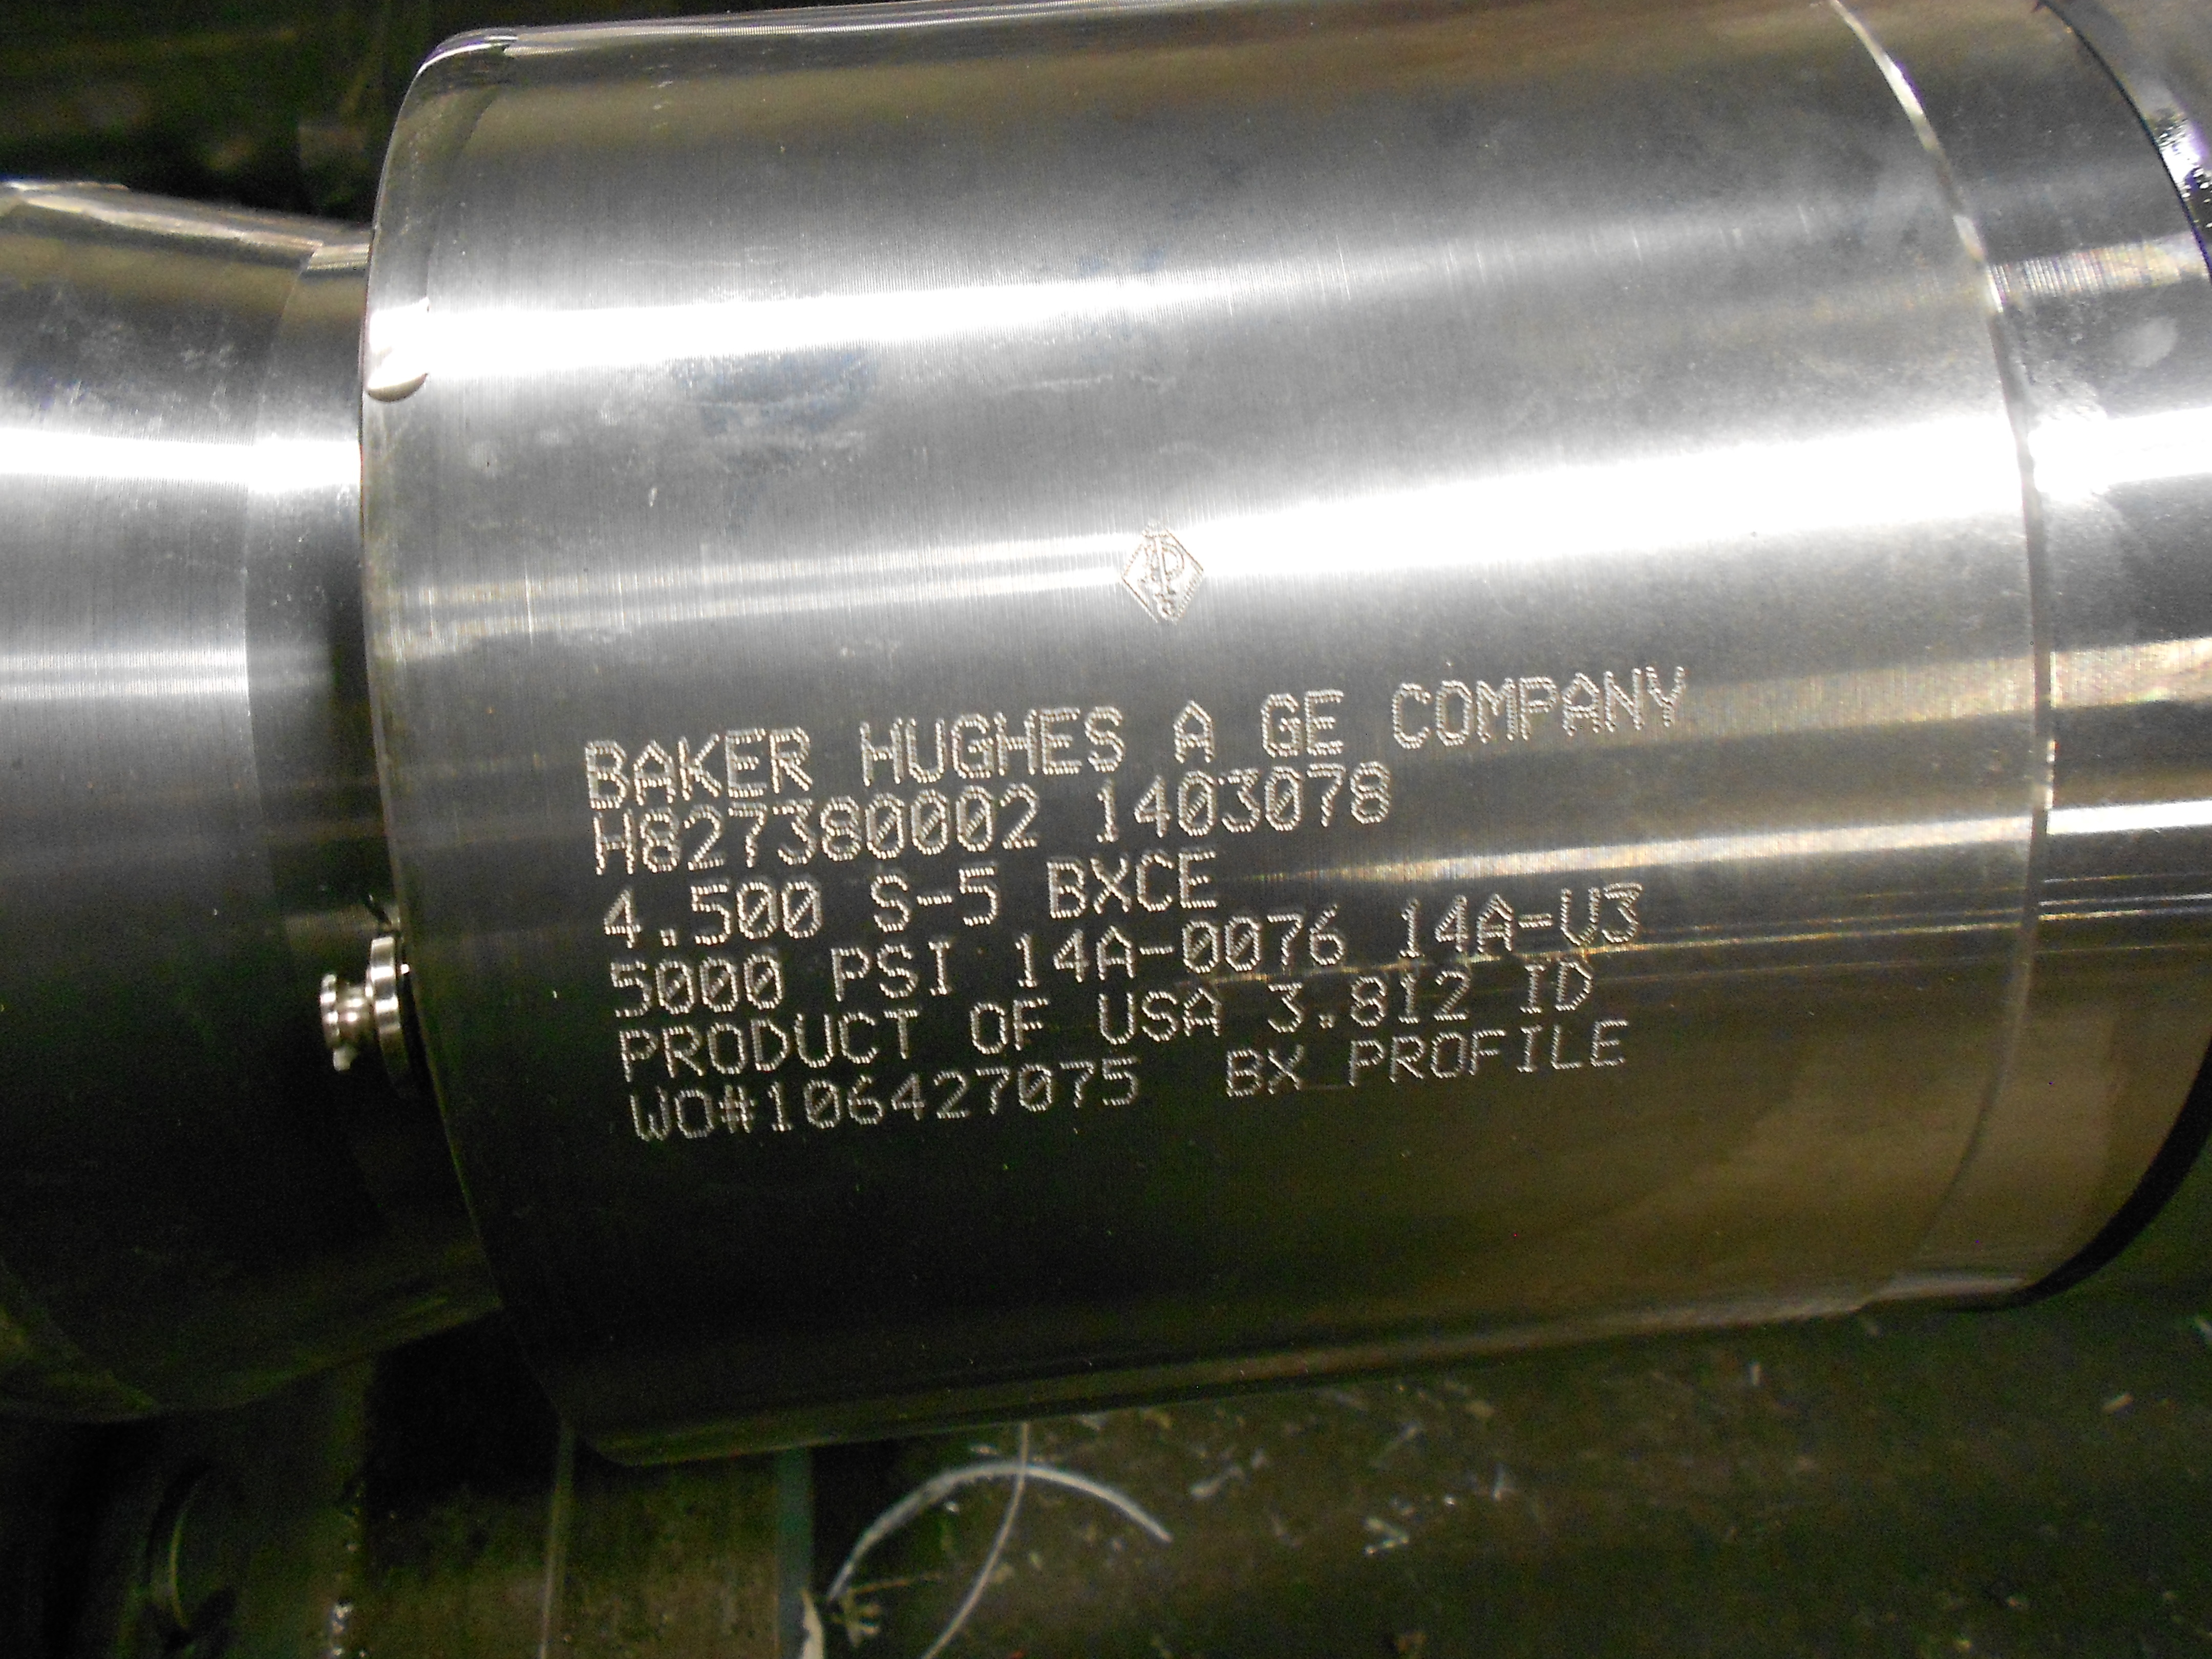character: (629, 735, 681, 810), (580, 737, 631, 812), (948, 782, 998, 854), (996, 782, 1047, 854), (1599, 664, 1649, 735), (991, 708, 1042, 777), (904, 786, 954, 856), (597, 880, 648, 950), (958, 863, 1008, 932), (1169, 697, 1219, 767), (1301, 762, 1352, 831), (1174, 767, 1224, 836), (1555, 669, 1606, 739), (1557, 880, 1608, 950), (900, 714, 949, 786), (949, 711, 998, 782), (1080, 702, 1129, 774), (636, 805, 685, 877), (678, 802, 726, 873), (860, 791, 909, 863), (730, 873, 779, 945), (780, 871, 829, 943), (1601, 875, 1649, 946), (676, 732, 725, 802), (721, 727, 770, 796), (766, 725, 815, 795), (857, 718, 906, 788), (1035, 706, 1083, 775), (590, 807, 639, 877), (725, 802, 773, 871), (768, 796, 817, 866), (817, 795, 866, 864), (686, 875, 735, 945), (869, 870, 918, 939), (606, 950, 655, 1019), (1254, 690, 1303, 760), (1299, 688, 1348, 758), (1345, 758, 1393, 828), (1261, 763, 1310, 833), (1217, 765, 1266, 835), (1130, 772, 1179, 842), (1390, 680, 1439, 749), (1430, 680, 1479, 749), (1474, 674, 1522, 744), (1514, 673, 1562, 742), (1639, 662, 1688, 732), (1474, 887, 1522, 957), (1432, 890, 1480, 960), (1385, 892, 1433, 962), (1306, 901, 1355, 971), (1264, 901, 1313, 971), (1130, 769, 1174, 842), (1174, 845, 1219, 913), (749, 1011, 796, 1075), (629, 1082, 674, 1148), (669, 1082, 714, 1148), (1223, 906, 1264, 978), (660, 1018, 705, 1082), (704, 1016, 749, 1080), (792, 1007, 838, 1072), (836, 1006, 881, 1070), (881, 1002, 927, 1066), (716, 1079, 759, 1145), (1181, 911, 1221, 983), (1096, 915, 1136, 986), (1052, 918, 1092, 990), (651, 955, 697, 1018), (874, 939, 920, 1002), (1134, 849, 1176, 915), (742, 953, 787, 1014), (1045, 857, 1090, 918), (1090, 854, 1134, 917), (697, 953, 740, 1014), (831, 945, 874, 1006), (618, 1023, 658, 1087), (1090, 774, 1127, 843), (885, 1070, 930, 1126), (972, 1065, 1017, 1121), (1015, 1061, 1061, 1117), (1055, 1056, 1101, 1112), (1097, 986, 1139, 1046), (799, 1077, 845, 1131), (928, 1068, 974, 1122), (1554, 957, 1594, 1018), (1348, 967, 1388, 1028), (1266, 976, 1306, 1037), (1139, 981, 1179, 1042), (1224, 1044, 1264, 1105), (1264, 1040, 1305, 1101), (1343, 1033, 1383, 1094), (1386, 1030, 1426, 1091), (1428, 1023, 1468, 1084), (1548, 1012, 1588, 1073), (843, 1072, 887, 1127), (1099, 1053, 1143, 1108), (1012, 995, 1054, 1053), (967, 1000, 1008, 1058), (925, 938, 963, 999), (1005, 931, 1043, 992), (1433, 962, 1472, 1023), (1183, 983, 1221, 1044), (1468, 1025, 1507, 1086), (1590, 1014, 1629, 1075), (1515, 960, 1555, 1018), (766, 1075, 796, 1140), (1515, 1021, 1547, 1079), (1399, 971, 1421, 1026), (1521, 906, 1555, 932), (653, 924, 681, 950), (911, 892, 954, 908), (1317, 1009, 1339, 1033), (1137, 943, 1174, 957)
